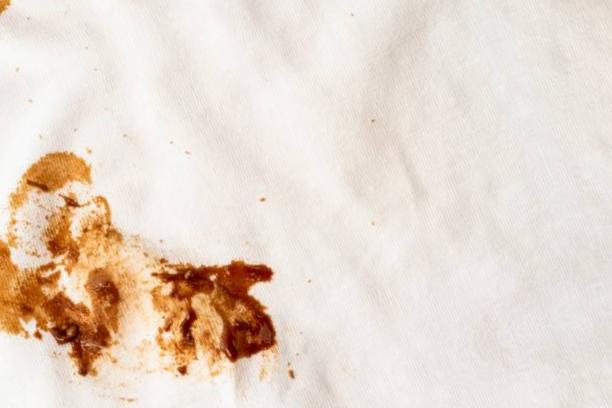stain: (1, 145, 293, 384)
